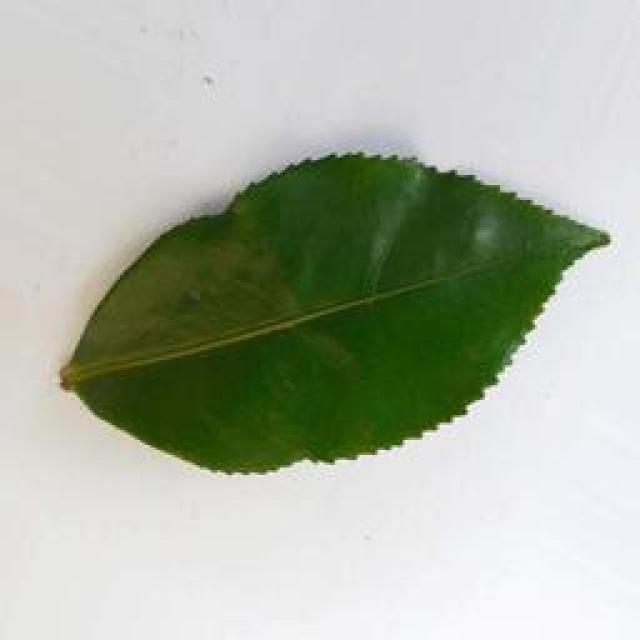Healthy: (52, 136, 624, 476)
